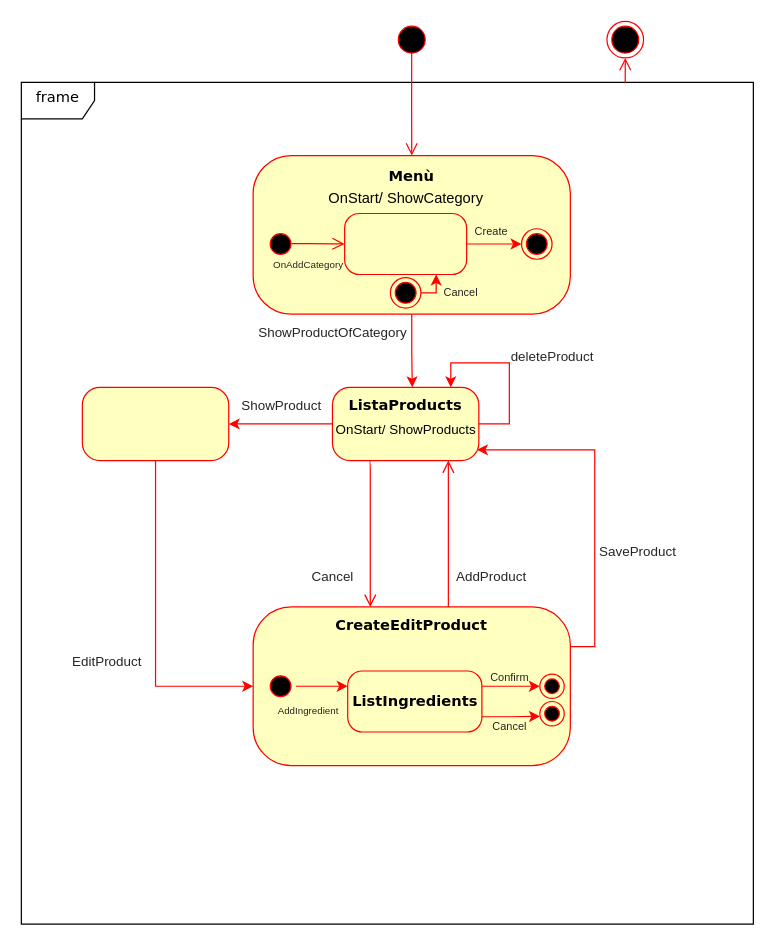
The diagram is 775 pixels wide and 946 high, and some of its shapes have lost their labels. Here are the shapes that lost their labels. From the top down, the centre of each, then its label:
the point at 405,243: PopupCategory
the point at 155,423: InfoProduct
